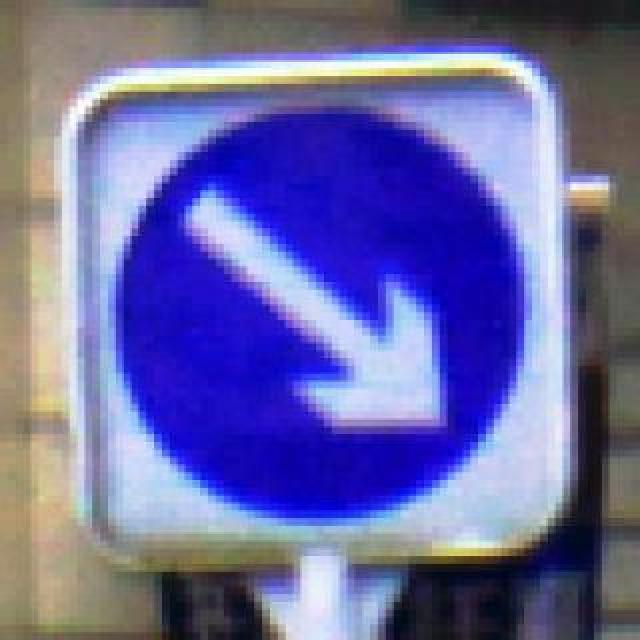keep right: (102, 90, 526, 526)
